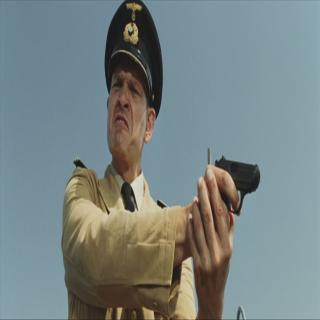gun: (206, 148, 260, 268)
